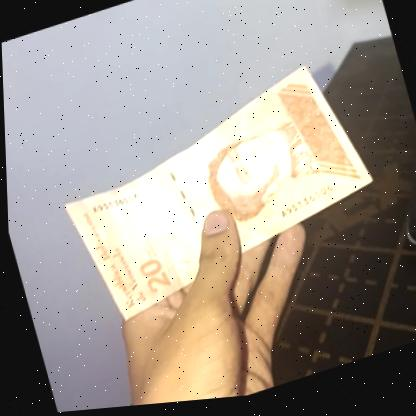twenty-front-vef: (43, 57, 389, 334)
